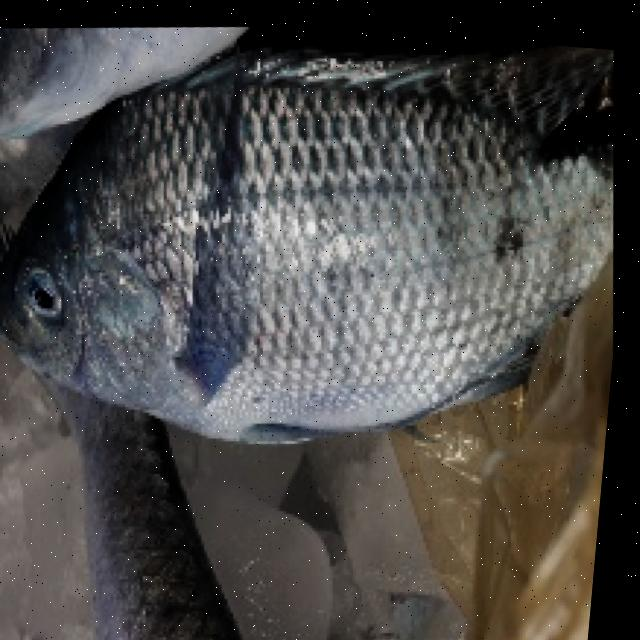Fresh: (60, 44, 453, 450), (15, 255, 92, 332)
